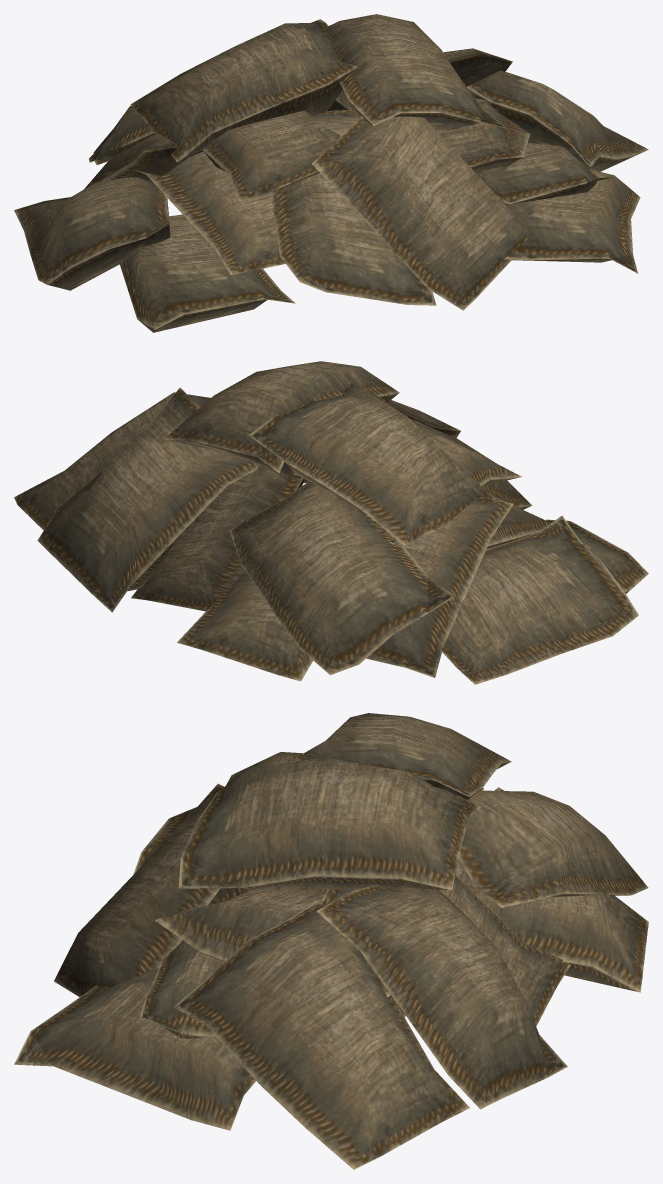
File: sack_18stack.fbx
3 views of the same model, one above another, from view 1: azimuth 30°, elevation 25°; view 2: azimuth 150°, elevation 25°; view 3: azimuth 270°, elevation 25° (orthographic). The views are drawn at different scales.
Visible parts, largest first — view 1: SackMesh, SackMesh15, SackMesh1, SackMesh11, SackMesh14, SackMesh2, SackMesh8, SackMesh3, SackMesh16, SackMesh5, SackMesh6, SackMesh7 (+3 smaller); view 2: SackMesh12, SackMesh10, SackMesh15, SackMesh14, SackMesh11, SackMesh9, SackMesh13, SackMesh4, SackMesh16, SackMesh5, SackMesh2, SackMesh3 (+2 smaller); view 3: SackMesh16, SackMesh11, SackMesh10, SackMesh8, SackMesh12, SackMesh, SackMesh4, SackMesh15, SackMesh7, SackMesh9, SackMesh6, SackMesh2.
Boxes of the visible parts, x1,y1,x2,y2 form: SackMesh: (312, 116, 527, 310); SackMesh15: (130, 19, 357, 162); SackMesh1: (265, 110, 436, 305); SackMesh11: (326, 14, 507, 130); SackMesh14: (14, 177, 173, 290); SackMesh2: (120, 214, 295, 332); SackMesh8: (504, 169, 640, 273); SackMesh3: (134, 151, 285, 274); SackMesh16: (467, 70, 648, 171); SackMesh5: (203, 110, 340, 201); SackMesh6: (476, 143, 614, 205); SackMesh7: (436, 86, 530, 173); SackMesh12: (229, 481, 455, 674); SackMesh10: (37, 387, 258, 612); SackMesh15: (248, 382, 495, 545); SackMesh14: (439, 515, 638, 684); SackMesh11: (164, 361, 399, 474); SackMesh9: (131, 465, 304, 611); SackMesh13: (366, 497, 513, 677); SackMesh4: (177, 571, 313, 681); SackMesh16: (14, 392, 210, 530); SackMesh5: (299, 418, 521, 544); SackMesh2: (486, 519, 648, 593); SackMesh3: (486, 505, 550, 548); SackMesh16: (173, 901, 469, 1169); SackMesh11: (178, 757, 480, 890); SackMesh10: (317, 885, 567, 1109); SackMesh8: (14, 969, 255, 1130); SackMesh12: (459, 787, 648, 907); SackMesh: (54, 783, 224, 997); SackMesh4: (455, 858, 648, 992); SackMesh15: (296, 713, 511, 799); SackMesh7: (155, 889, 390, 997); SackMesh9: (320, 875, 570, 1026); SackMesh6: (139, 940, 405, 1038); SackMesh2: (133, 807, 327, 891).
Bounding box in the file's own units: 1859 × 578 × 1350.
Materials: 1 (1 with a texture image).
